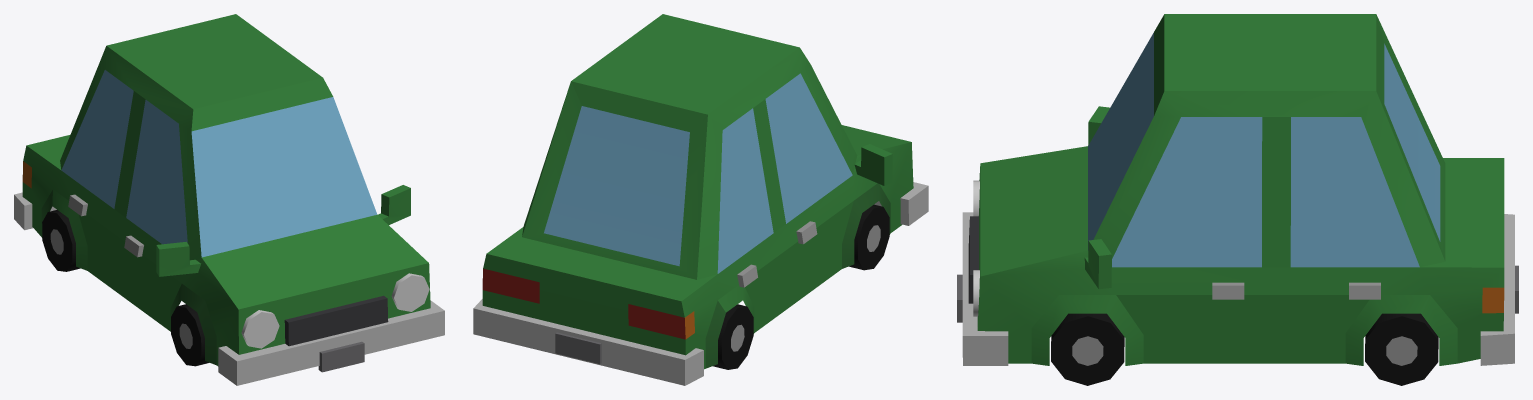
The model's file is Car_03_green.fbx.
3 views of the same model, side by side, from view 1: azimuth 30°, elevation 25°; view 2: azimuth 150°, elevation 25°; view 3: azimuth 270°, elevation 25° (orthographic). The views are drawn at different scales.
Visible parts, largest first — view 1: Car_03_green; view 2: Car_03_green; view 3: Car_03_green.
Boxes of the visible parts, <box> form: Car_03_green: <box>14,14,444,385</box>; Car_03_green: <box>473,14,928,385</box>; Car_03_green: <box>957,14,1518,385</box>.
Size of the model in its own units: 57.9 by 49.04 by 91.82.
